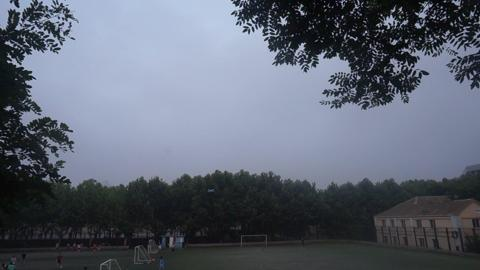UAV: (208, 189, 215, 194)
